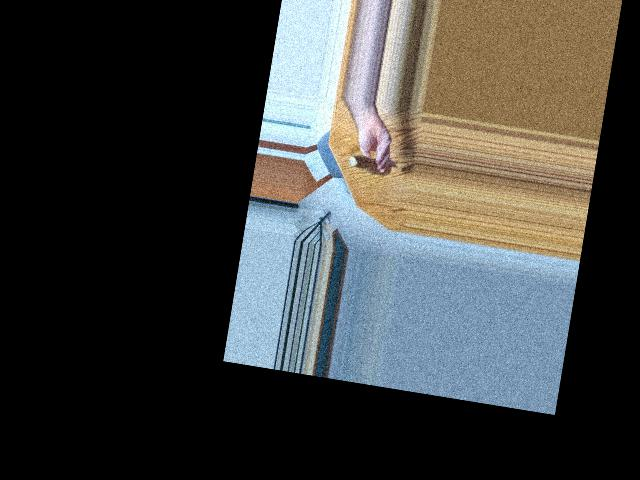sweet_potato: (348, 149, 388, 178)
